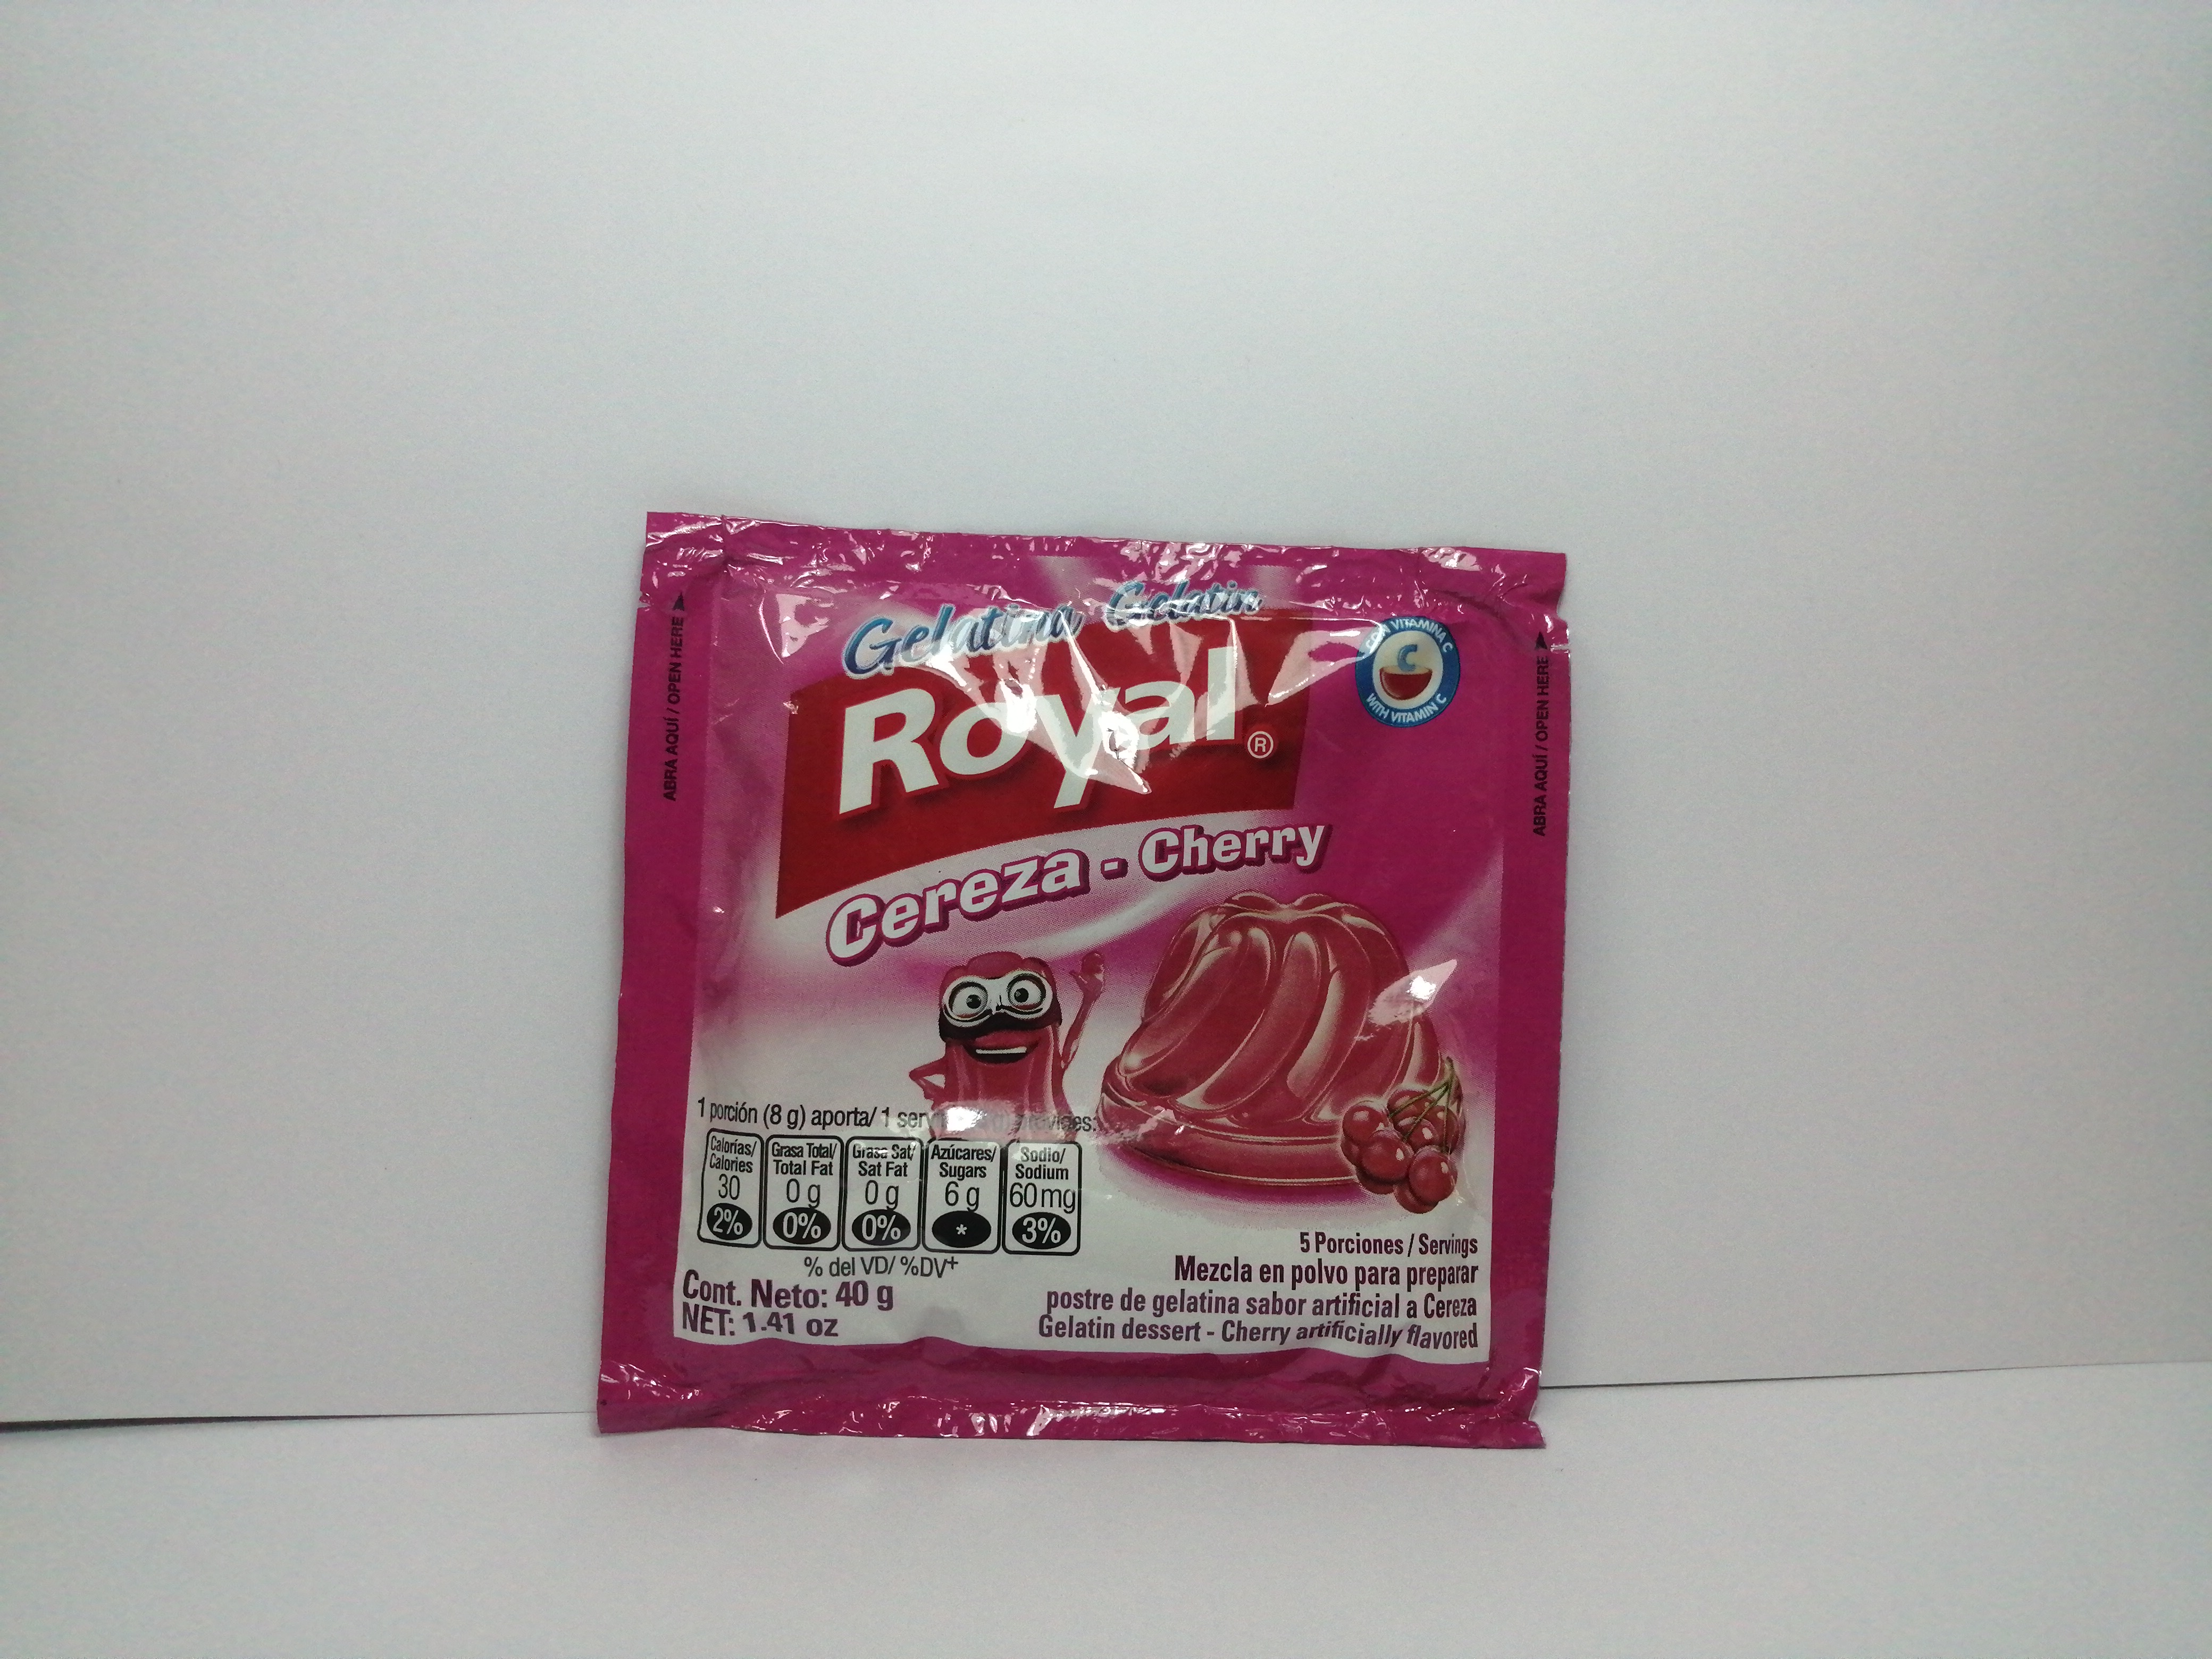gelatina: (599, 511, 1569, 1467)
